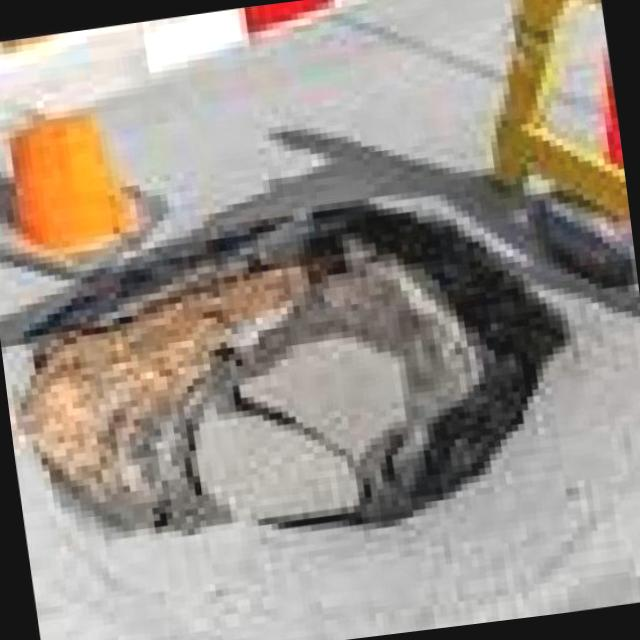Pathole: (6, 154, 571, 542)
